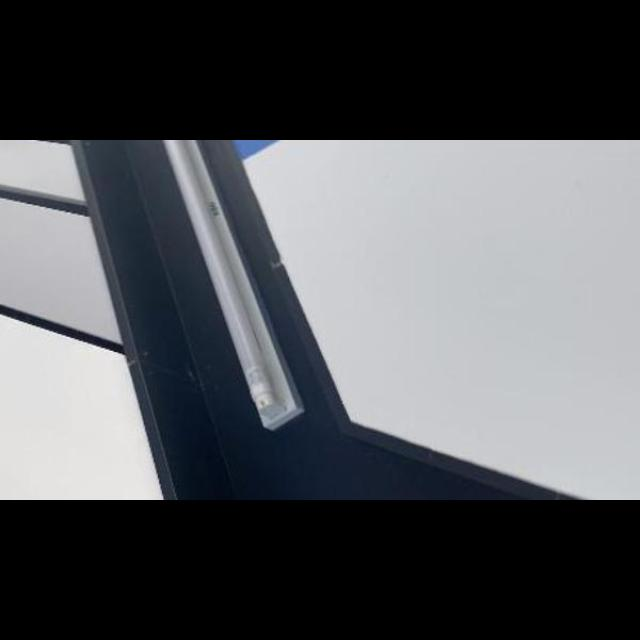Straight-Tube-Fluorescent-Lamp: (132, 140, 312, 446)
